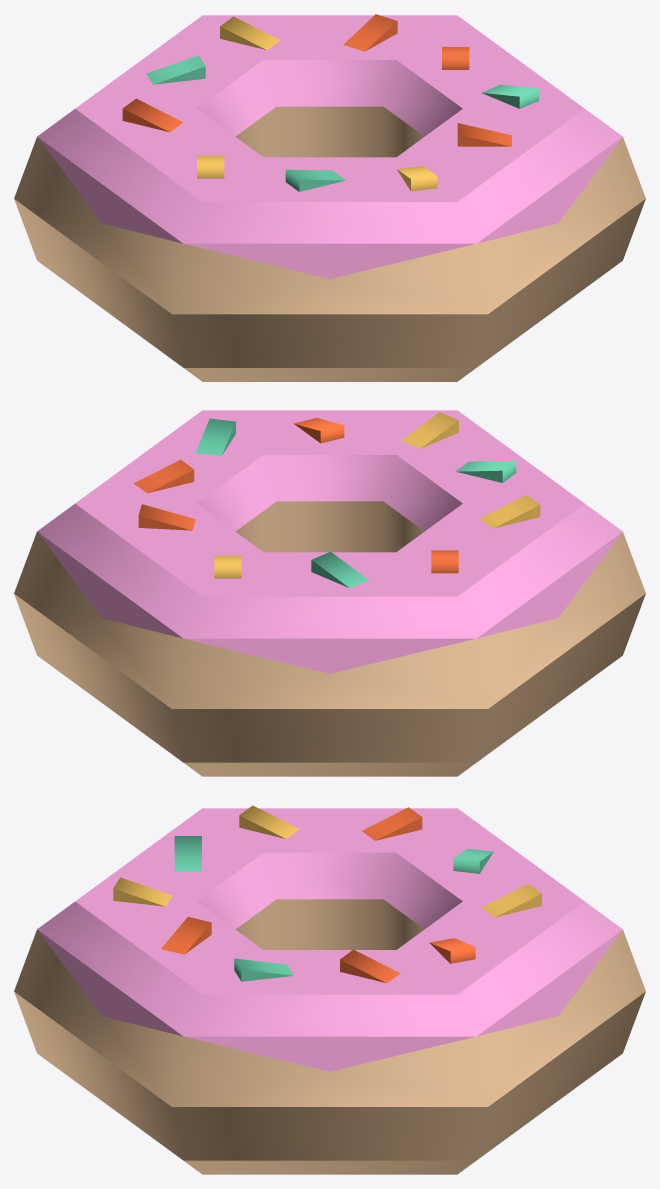
File: donutSprinkles.obj
3 renders of one model, top to bottom at view 1: azimuth 30°, elevation 25°; view 2: azimuth 150°, elevation 25°; view 3: azimuth 270°, elevation 25°, orthographic.
Parts seen in each view (by area): view 1: donutSprinkles; view 2: donutSprinkles; view 3: donutSprinkles.
Part boxes in pixels (left/top/right/bottom): donutSprinkles: left=14, top=14, right=645, bottom=381; donutSprinkles: left=14, top=410, right=645, bottom=776; donutSprinkles: left=14, top=805, right=645, bottom=1174.
Bounding box in the file's own units: 0.2451 × 0.095 × 0.283.
